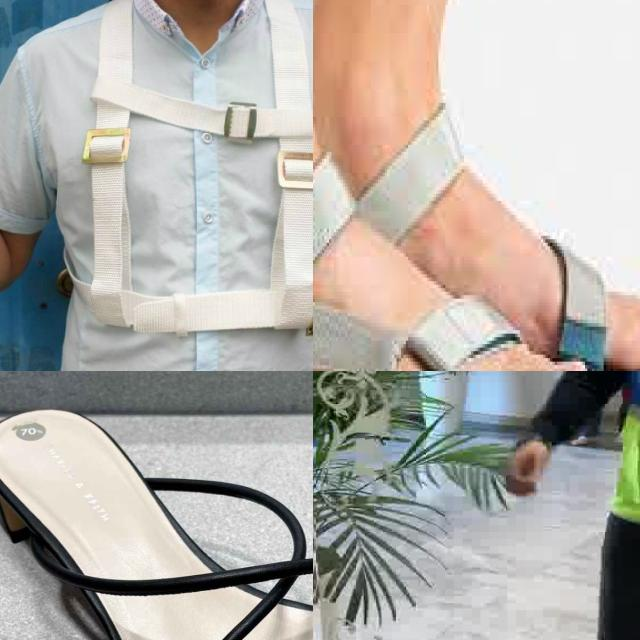Harness: (52, 0, 313, 371)
Sandals: (313, 106, 627, 371), (0, 397, 313, 640)
hand_noglove: (508, 439, 551, 496)
